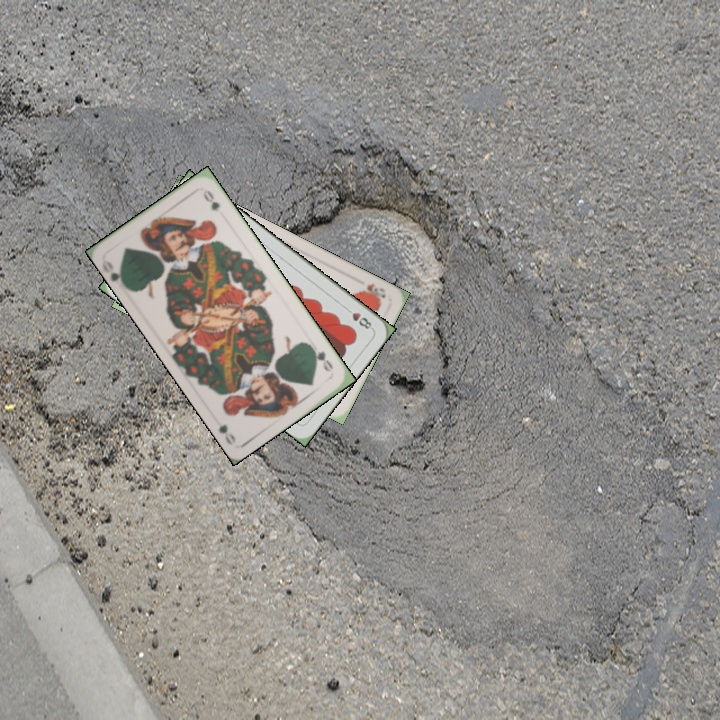GO: (101, 256, 129, 290), (307, 342, 336, 374)
H8: (340, 303, 375, 332)
HO: (355, 279, 389, 303)
